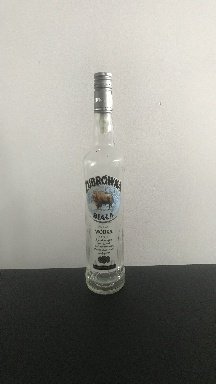butelka: (82, 68, 126, 297)
